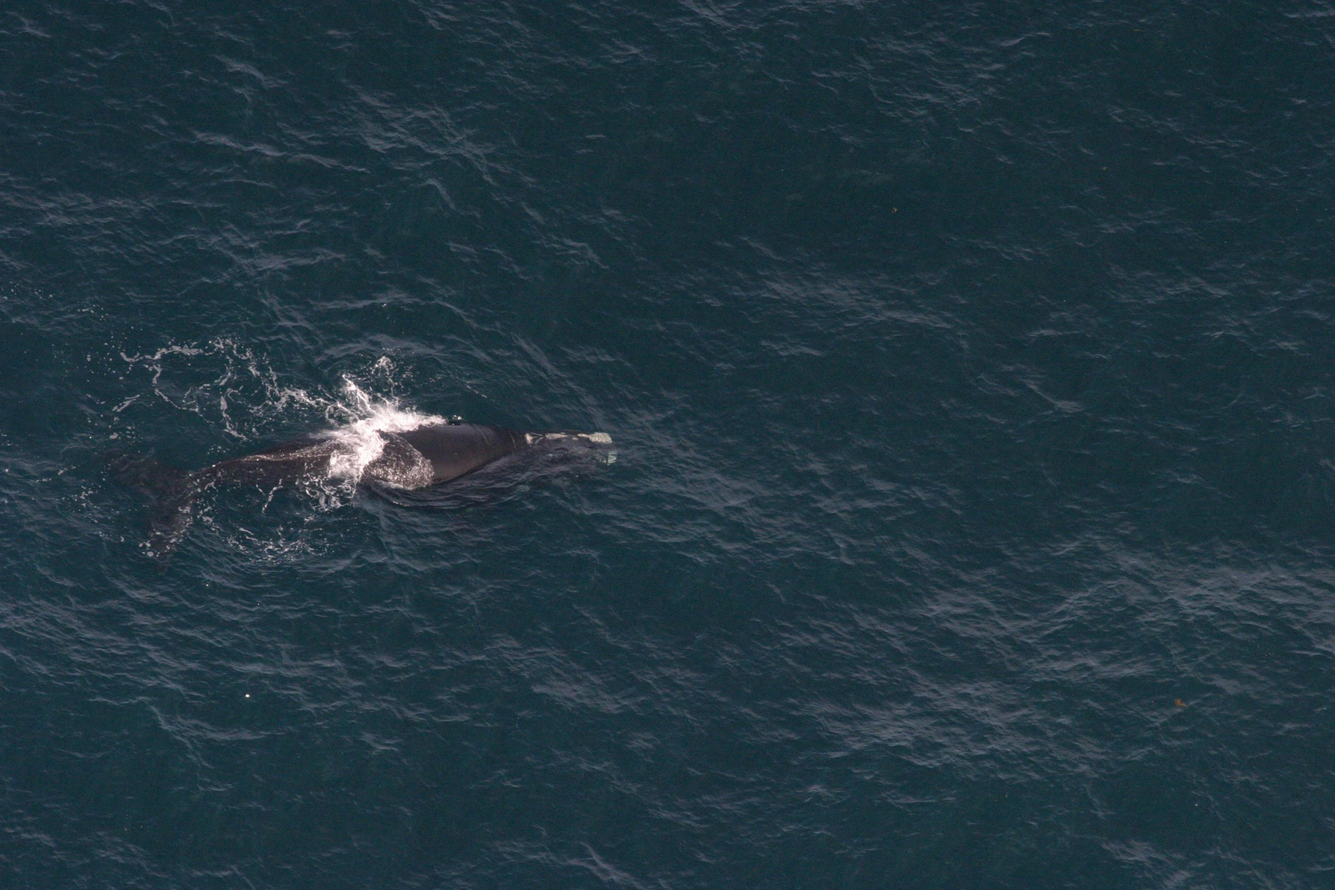whale: (84, 410, 625, 590)
